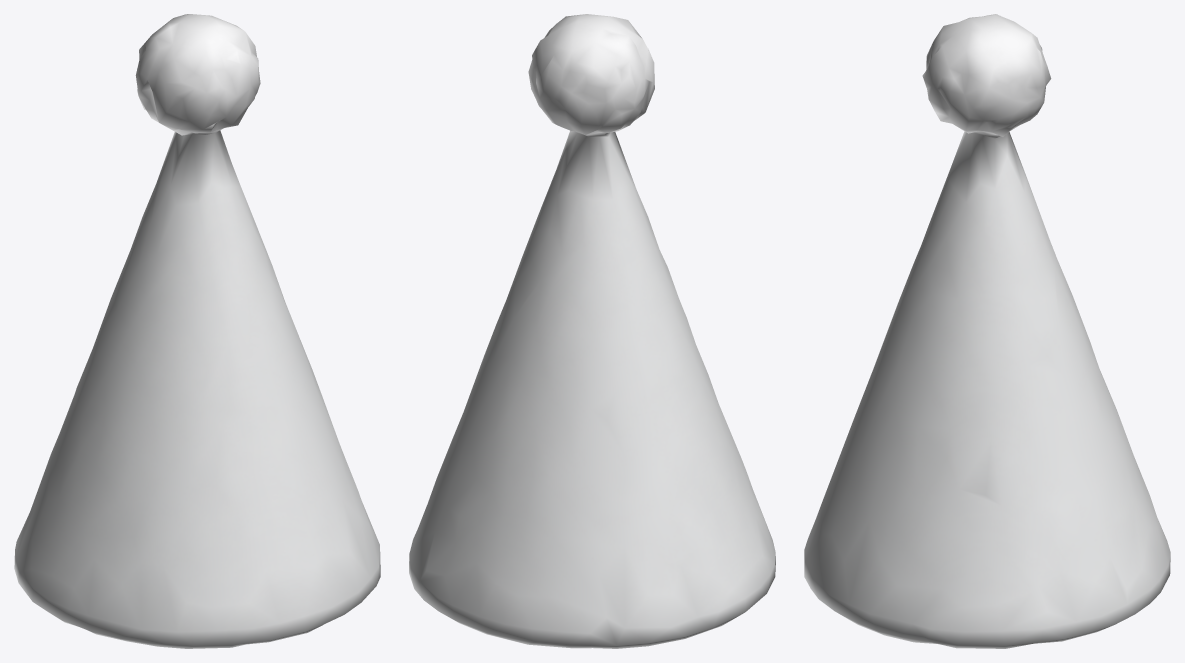
The model's file is hat-party.glb.
3 renders of one model, left to right at view 1: azimuth 30°, elevation 25°; view 2: azimuth 150°, elevation 25°; view 3: azimuth 270°, elevation 25°, orthographic.
Visible parts, largest first — view 1: Body; view 2: Body; view 3: Body.
Part boxes in pixels (x1,y1,x2,y2): Body: [14, 14, 380, 648]; Body: [409, 14, 775, 648]; Body: [804, 14, 1170, 648].
Size of the model in its own units: 0.5644 by 0.9917 by 0.5642.
Materials: 1 (1 with a texture image).
